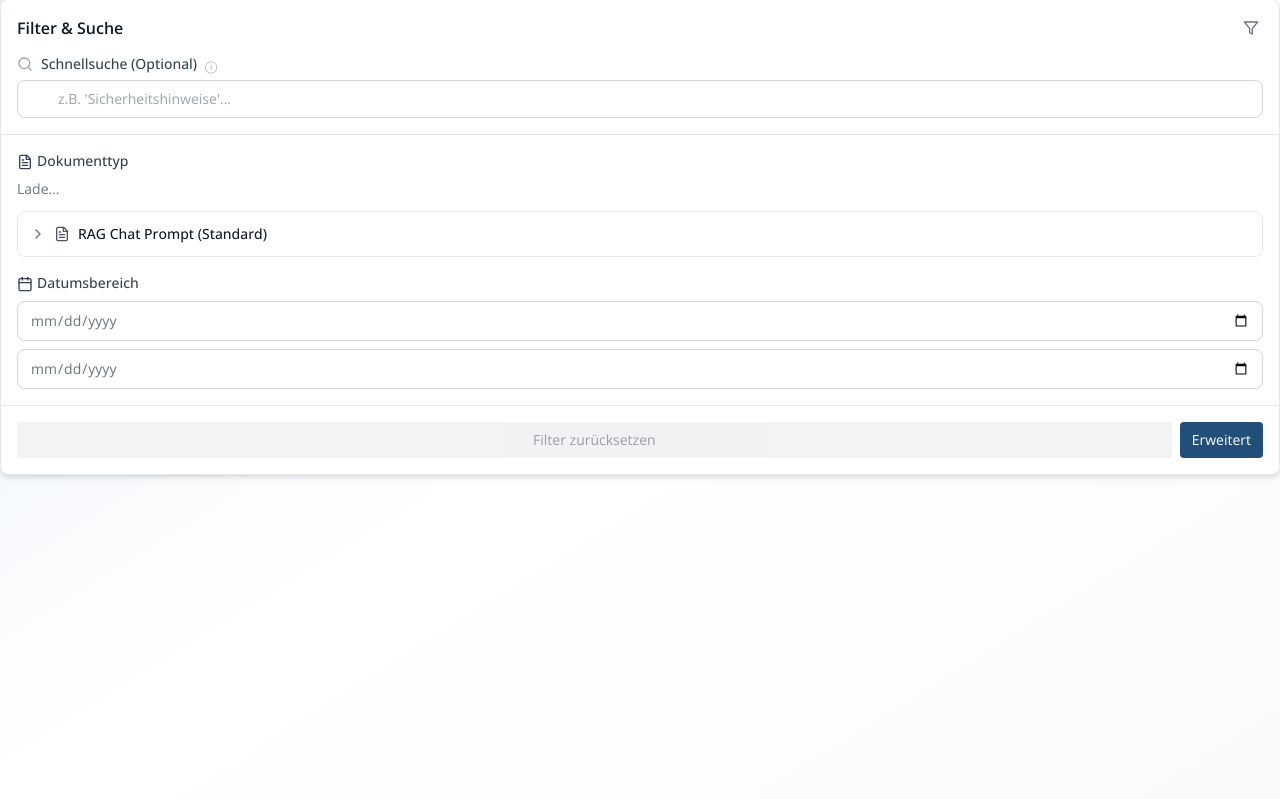
Test: FilterPanel ML Re-Ranking Toggle › renders ML Re-Ranking toggle checkbox
Click the button "Erweitert" at [1221, 440], box [1180, 422, 1263, 458]
(page scrolled)
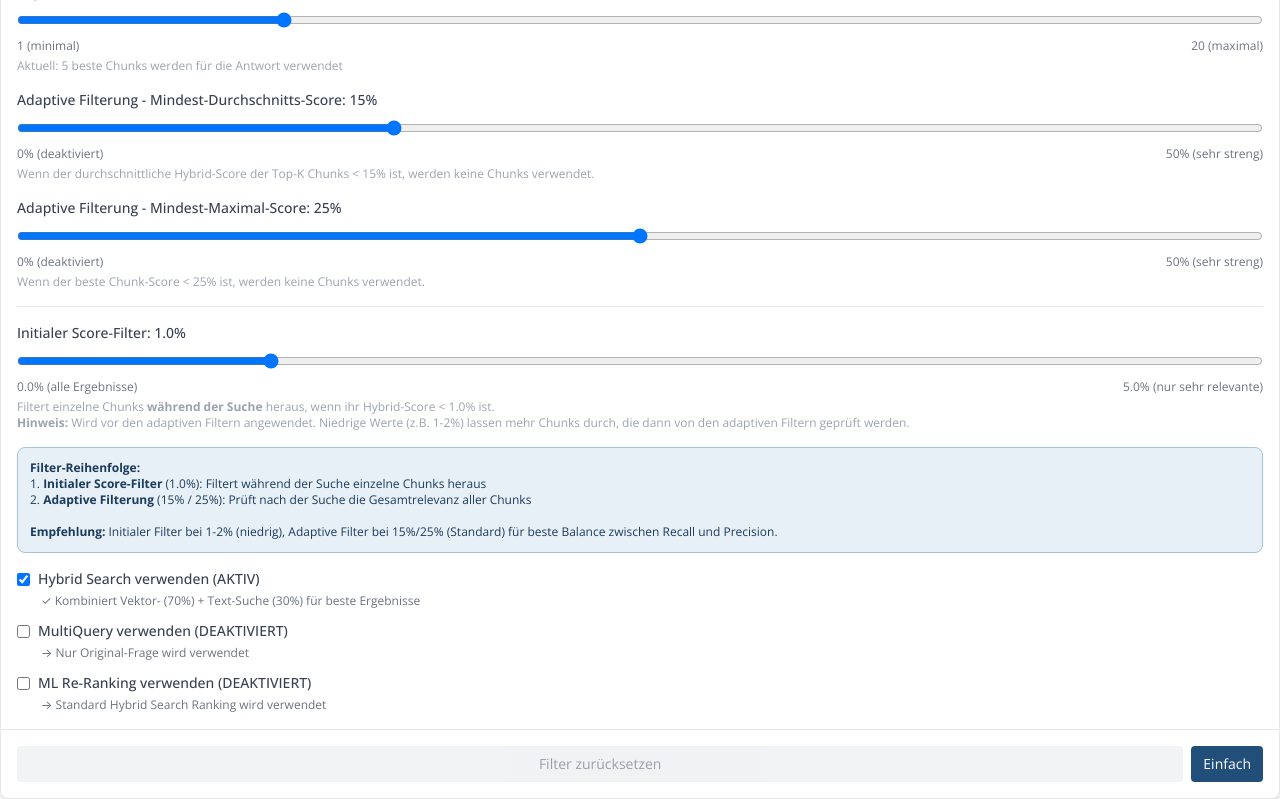
Expected: the text "ML Re-Ranking verwenden (DEAKTIVIERT)" is shown, [17, 673, 311, 692]
